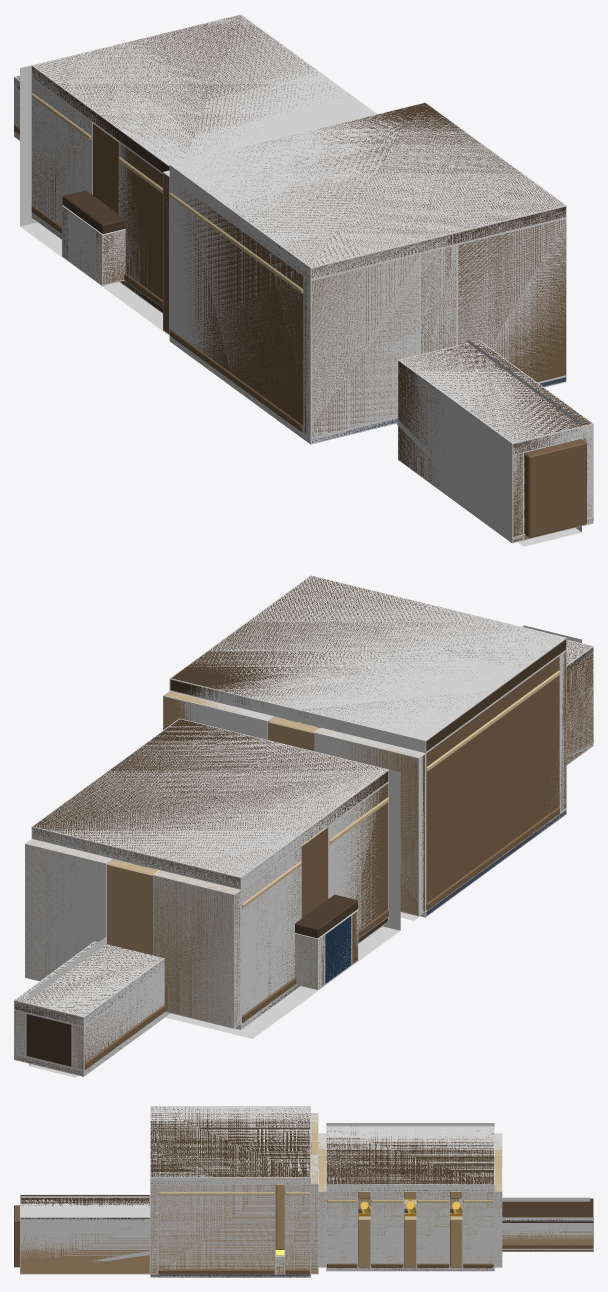
The model's file is zona_2_santuario.glb.
3 renders of one model, top to bottom at view 1: azimuth 30°, elevation 25°; view 2: azimuth 150°, elevation 25°; view 3: azimuth 270°, elevation 25°, orthographic. The views are drawn at different scales.
Parts seen in each view (by area): view 1: santuario_escenario, col_box_espejos_techo, col_box_sala_techo, col_box_espejos_s_o, col_box_espejos_s_e, col_box_ante_o, col_box_espejos_o, col_box_ante_techo, col_box_sala_o_1, dyn_puerta_arena, col_box_espejos_dintel, trg_box_zona_s_sala (+6 smaller); view 2: santuario_escenario, col_box_espejos_techo, col_box_sala_techo, col_box_sala_n_o, col_box_sala_n_e, col_box_sala_o_1, col_box_vest_techo, col_box_espejos_n_o, trg_box_zona_s_sala, col_box_sala_o_2, col_box_vest_o, col_box_espejos_n_e (+5 smaller); view 3: santuario_escenario, col_box_espejos_techo, col_box_espejos_e_2, col_box_sala_techo, col_box_ante_e, col_box_ante_techo, col_box_sala_e_3, col_box_sala_e_2, col_box_sala_e_1, col_box_sala_e_4, col_box_espejos_e_1, col_box_vest_e (+12 smaller).
Part boxes in pixels (x1,y1,x2,y2): santuario_escenario: (14, 15, 592, 541); col_box_espejos_techo: (169, 102, 566, 279); col_box_sala_techo: (31, 14, 376, 173); col_box_espejos_s_o: (304, 253, 419, 438); col_box_espejos_s_e: (457, 218, 566, 382); col_box_ante_o: (398, 366, 523, 543); col_box_espejos_o: (169, 177, 303, 433); col_box_ante_techo: (398, 340, 593, 454); col_box_sala_o_1: (31, 78, 92, 225); dyn_puerta_arena: (524, 439, 586, 537); col_box_espejos_dintel: (420, 244, 457, 354); trg_box_zona_s_sala: (20, 65, 168, 334); santuario_escenario: (15, 576, 593, 1075); col_box_espejos_techo: (169, 575, 566, 752); col_box_sala_techo: (31, 718, 388, 889); col_box_sala_n_o: (153, 870, 240, 1028); col_box_sala_n_e: (25, 839, 112, 981); col_box_sala_o_1: (241, 846, 301, 1023); col_box_vest_techo: (14, 941, 164, 1026); col_box_espejos_n_o: (314, 727, 425, 916); trg_box_zona_s_sala: (165, 769, 400, 1038); col_box_sala_o_2: (327, 782, 388, 929); col_box_vest_o: (72, 968, 164, 1070); col_box_espejos_n_e: (163, 690, 274, 739); santuario_escenario: (20, 1107, 593, 1277); col_box_espejos_techo: (150, 1106, 310, 1183); col_box_espejos_e_2: (158, 1184, 275, 1274); col_box_sala_techo: (326, 1126, 494, 1191); col_box_ante_e: (20, 1221, 150, 1274); col_box_ante_techo: (20, 1194, 150, 1224); col_box_sala_e_3: (370, 1191, 404, 1267); col_box_sala_e_2: (416, 1191, 449, 1267); col_box_sala_e_1: (462, 1191, 494, 1267); col_box_sala_e_4: (326, 1191, 358, 1267); col_box_espejos_e_1: (285, 1184, 310, 1274); col_box_vest_e: (502, 1223, 593, 1248).
Bounding box in the file's own units: 22.24 × 18 × 75.8.
